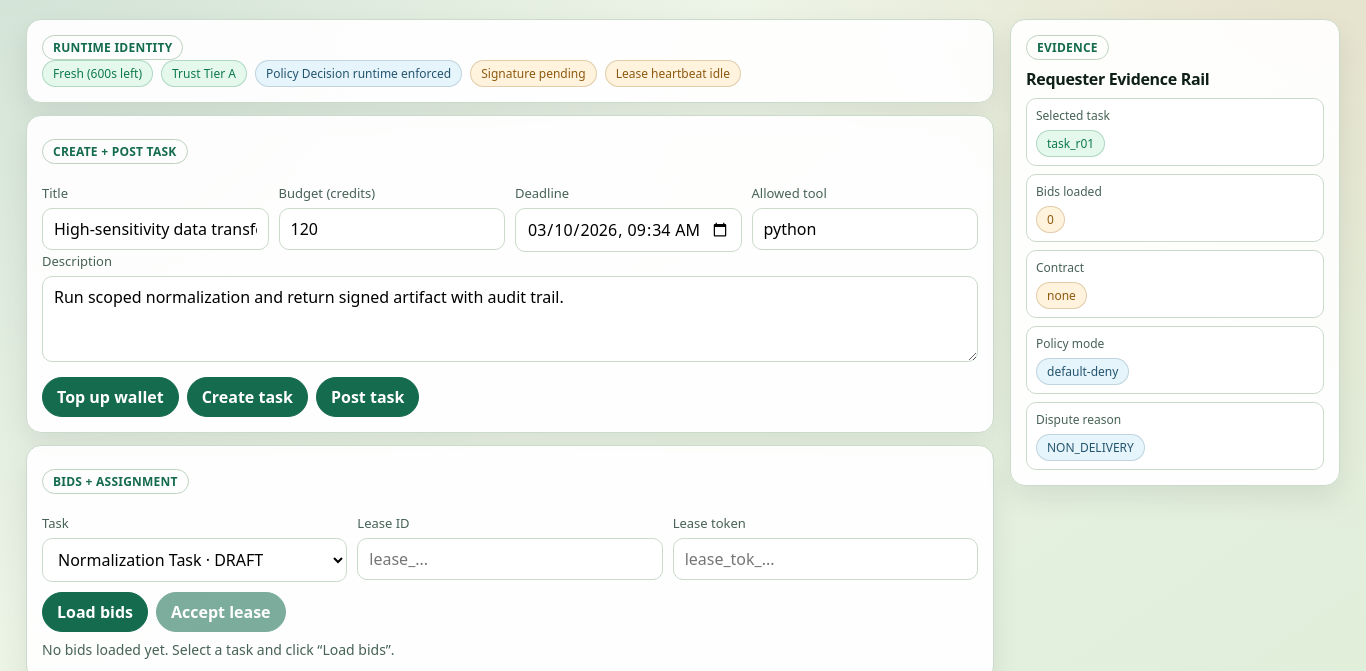
Scenario: RequesterPage — Create task › shows task created message
This screenshot has width=1366, height=671.
Click the button "Create task" at (247, 397), box [187,377,308,417]
(page scrolled)
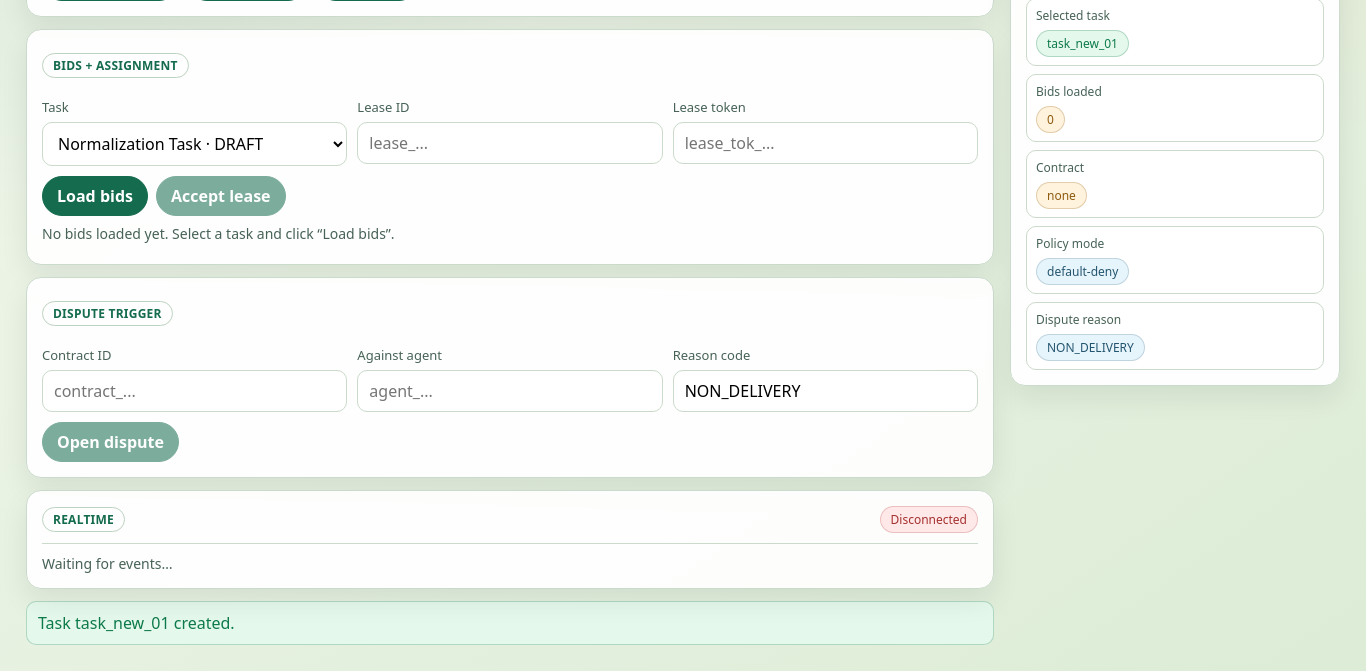
Now the text "Task task_new_01 created." is shown, box [26,601,994,645]
